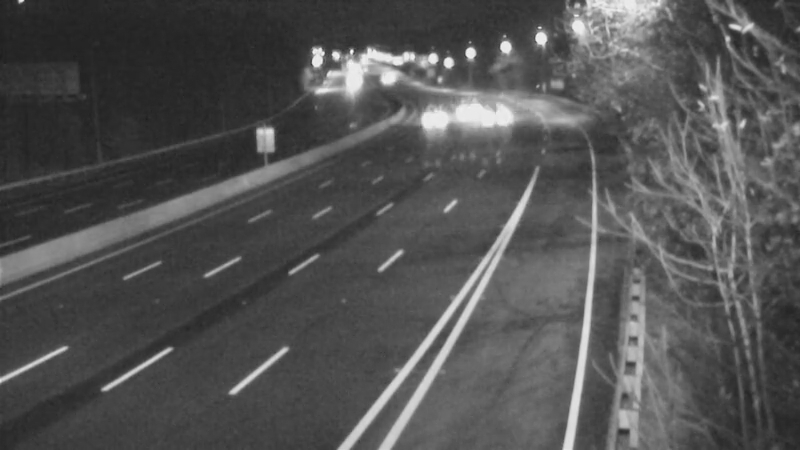vehicle: (364, 56, 414, 106), (438, 83, 488, 133), (409, 95, 459, 145), (470, 88, 520, 138)
